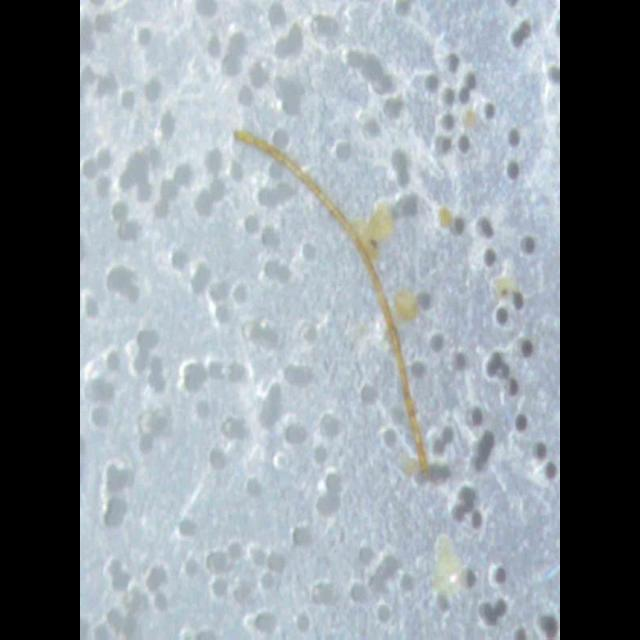Fibre: (232, 126, 432, 478)
